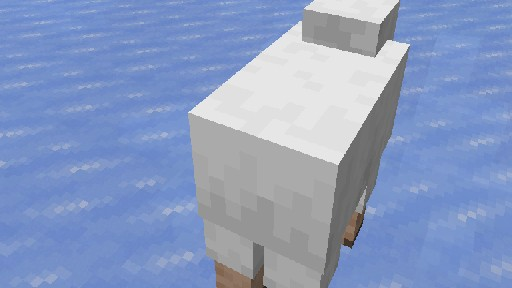sheep: (187, 0, 410, 288)
